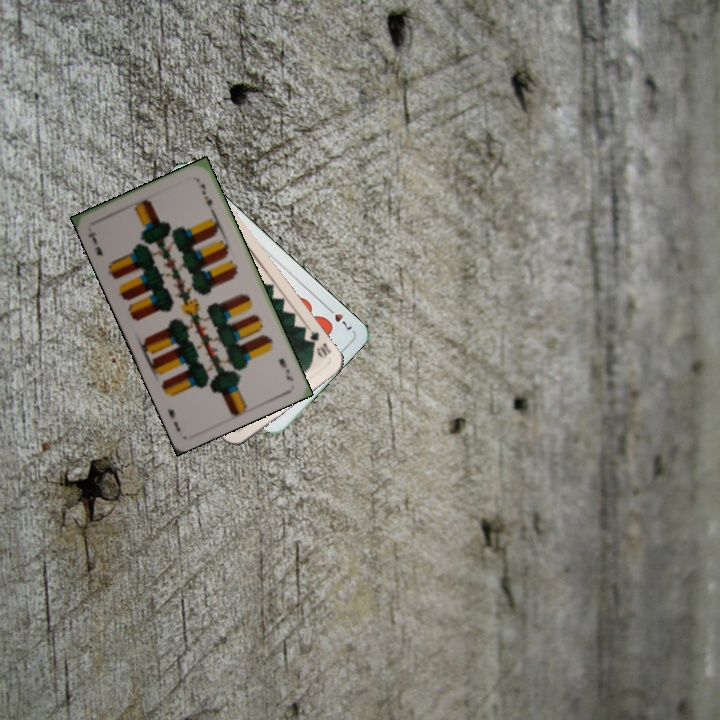E7: (84, 228, 106, 259), (274, 354, 296, 384)
G10: (303, 327, 334, 361)
H7: (322, 302, 355, 333)
